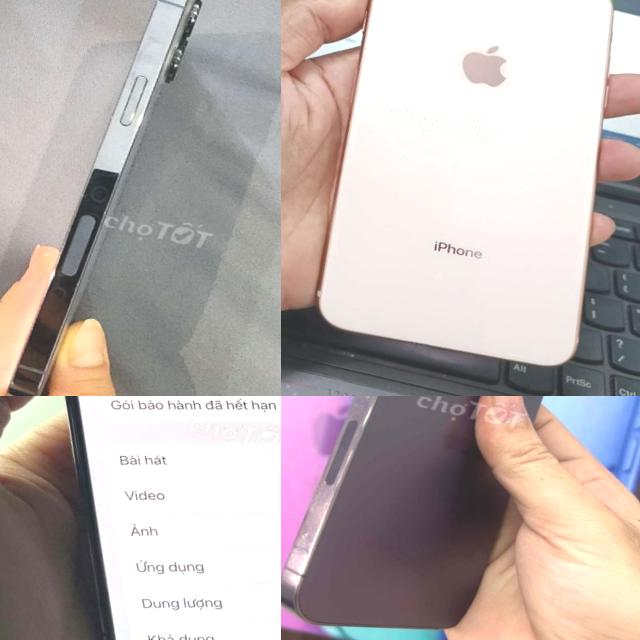gen_12_13: (0, 0, 213, 396)
gen_14: (281, 396, 602, 640), (0, 396, 281, 640)
gen_7_8: (287, 0, 640, 390)
scratch: (281, 471, 343, 596)
